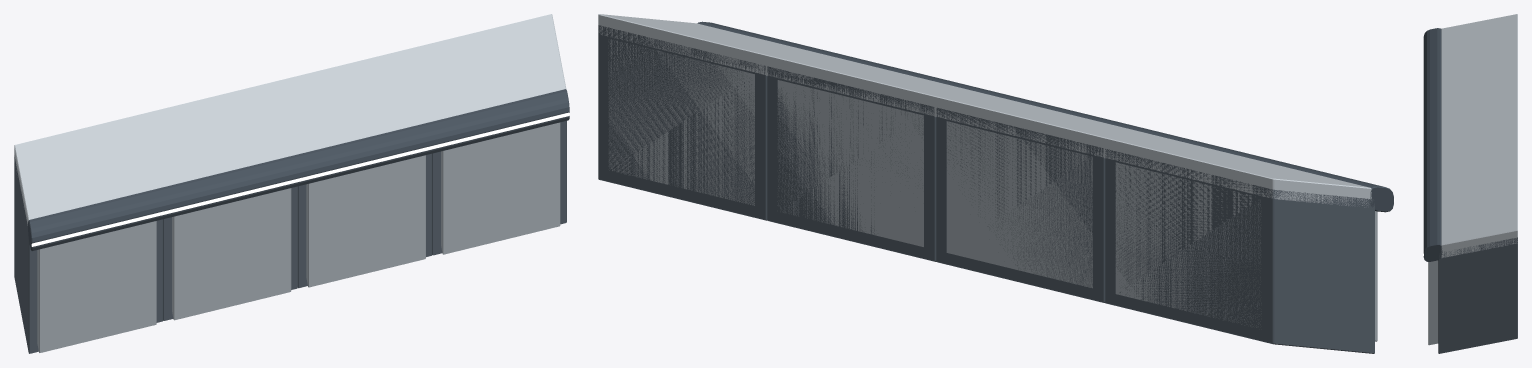
File: Terrain_TopRun4.gltf
3 renders of one model, left to right at view 1: azimuth 30°, elevation 25°; view 2: azimuth 150°, elevation 25°; view 3: azimuth 270°, elevation 25°, orthographic. The views are drawn at different scales.
Visible parts, largest first — view 1: Terrain_TopRun4_baked; view 2: Terrain_TopRun4_baked; view 3: Terrain_TopRun4_baked.
Part boxes in pixels (left/top/right/bottom): Terrain_TopRun4_baked: left=14, top=14, right=569, bottom=353; Terrain_TopRun4_baked: left=598, top=14, right=1394, bottom=353; Terrain_TopRun4_baked: left=1423, top=14, right=1517, bottom=353.
Size of the model in its own units: 4.29 by 1.18 by 0.74.
